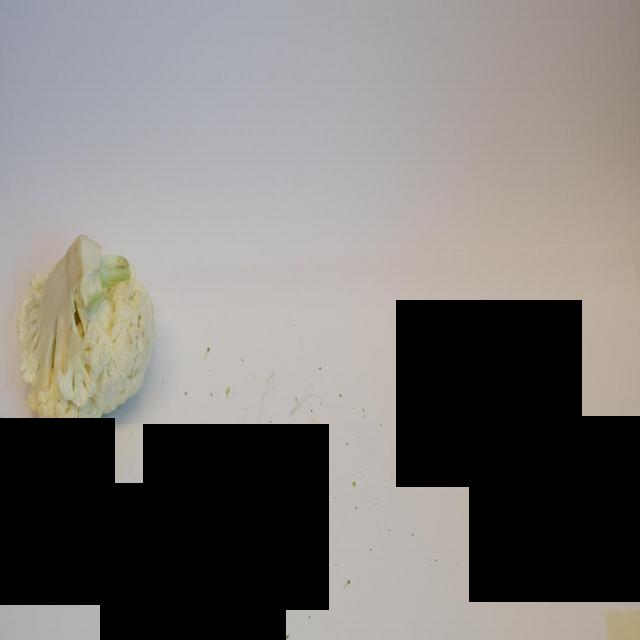cauliflower: (17, 233, 157, 443)
